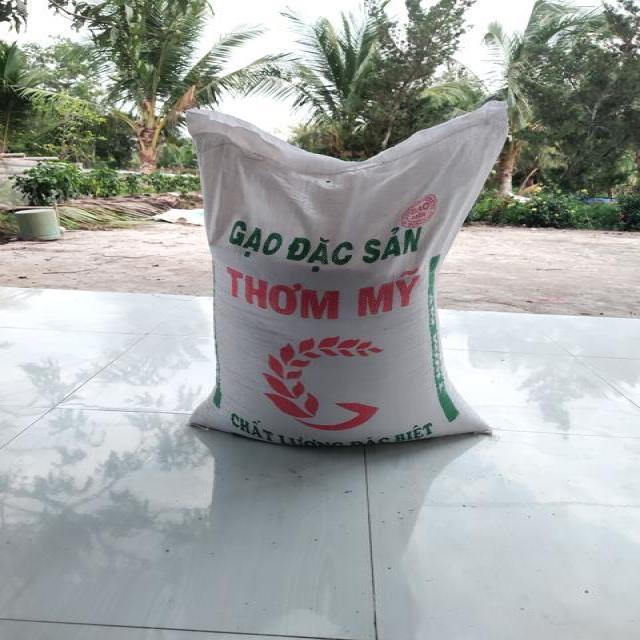gunny_bag: (187, 102, 507, 446)
